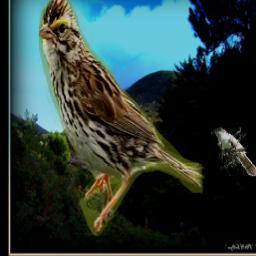Cuckoo: (211, 127, 256, 176)
Sparrow: (38, 0, 204, 237)
